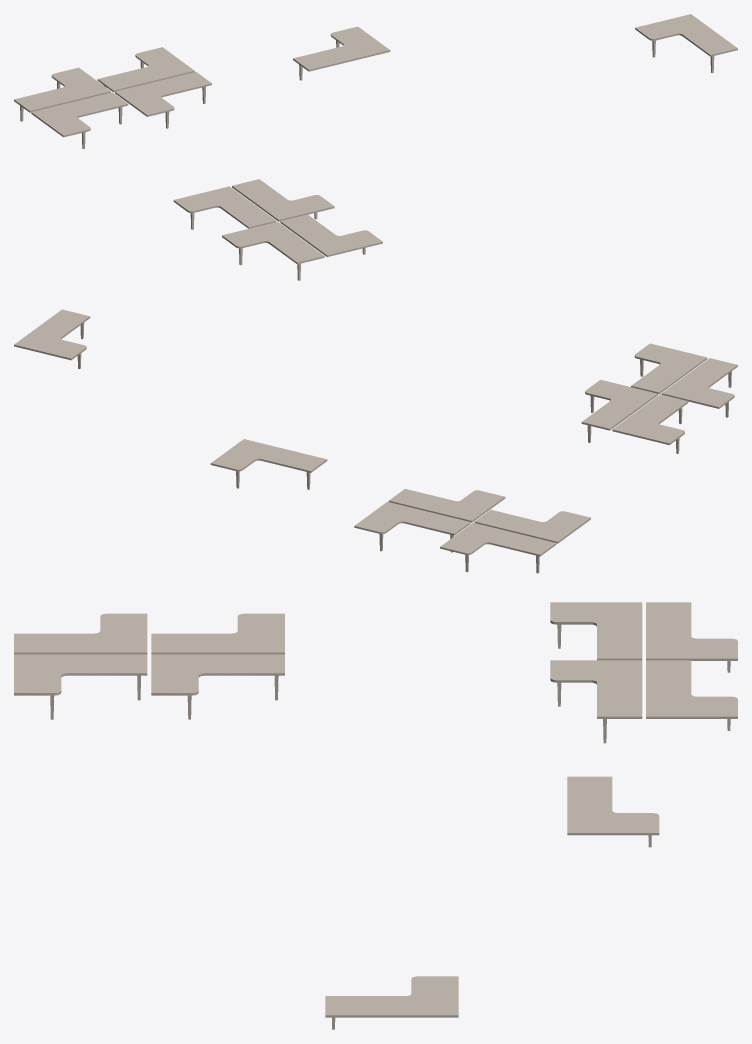
Rendered from table.fbx.
3 views of the same model, one above another, from view 1: azimuth 30°, elevation 25°; view 2: azimuth 150°, elevation 25°; view 3: azimuth 270°, elevation 25° (orthographic). The views are drawn at different scales.
Parts seen in each view (by area): view 1: table; view 2: table; view 3: table.
Part boxes in pixels (x1,y1,x2,y2): table: (14,14,737,280); table: (14,309,737,573); table: (14,602,737,1029).
Bounding box in the file's own units: 2250 × 75.58 × 1667.
